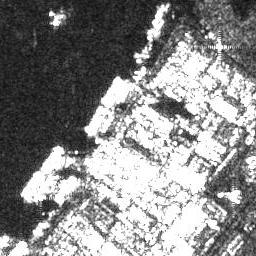ship: (17, 168, 46, 199), (38, 144, 63, 173), (55, 174, 78, 204), (100, 74, 121, 106), (85, 104, 104, 134)
